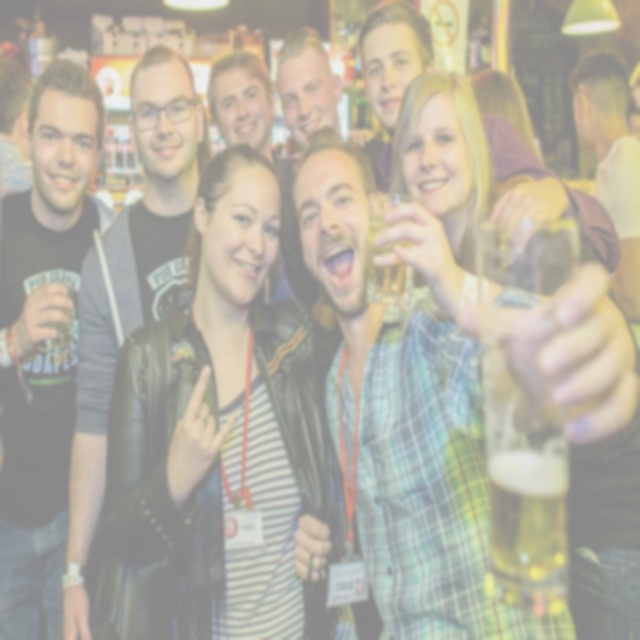pessoa: (290, 128, 640, 638), (100, 141, 350, 638), (54, 39, 216, 638), (354, 0, 623, 277), (0, 56, 123, 639), (205, 47, 346, 393), (387, 65, 522, 288), (566, 44, 639, 353), (272, 22, 392, 198), (461, 60, 560, 194), (156, 23, 212, 184), (0, 50, 38, 198), (616, 52, 639, 144)
